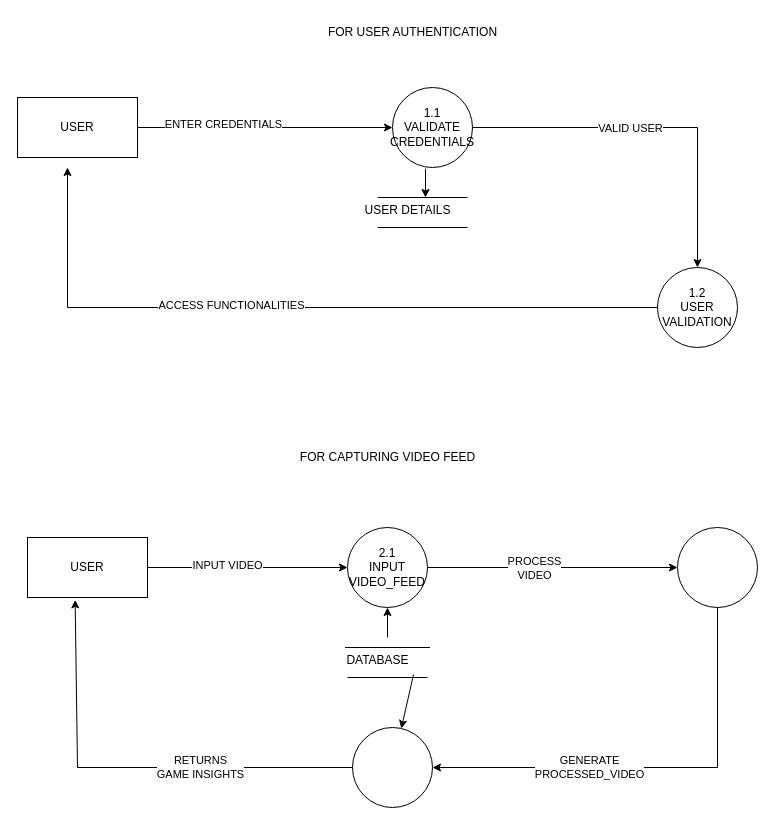
This 775x825 diagram has some shape labels left out. The shapes that lost their labels are listed below. From the top down, each one's centre as x and y in pixels, then its label:
At [717,567]: "2.2 PROCESS VIDEO".
At [392,767]: "GENERATE GAME INSIGHTS".
